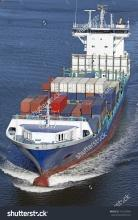Cargoship: (2, 3, 137, 186)
